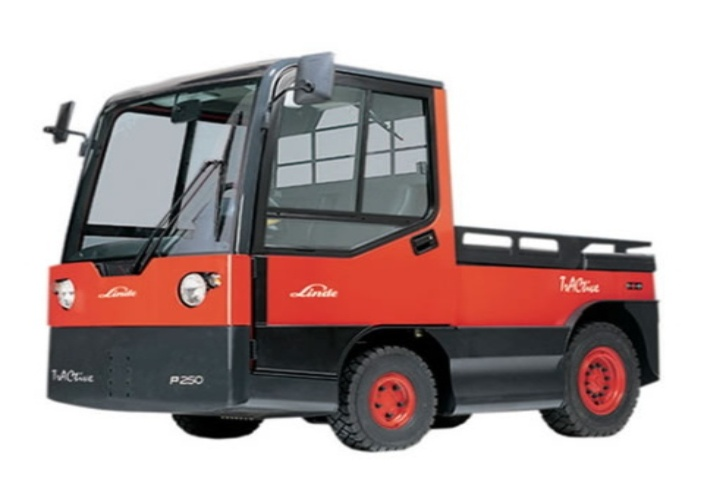truck: (26, 45, 668, 461)
